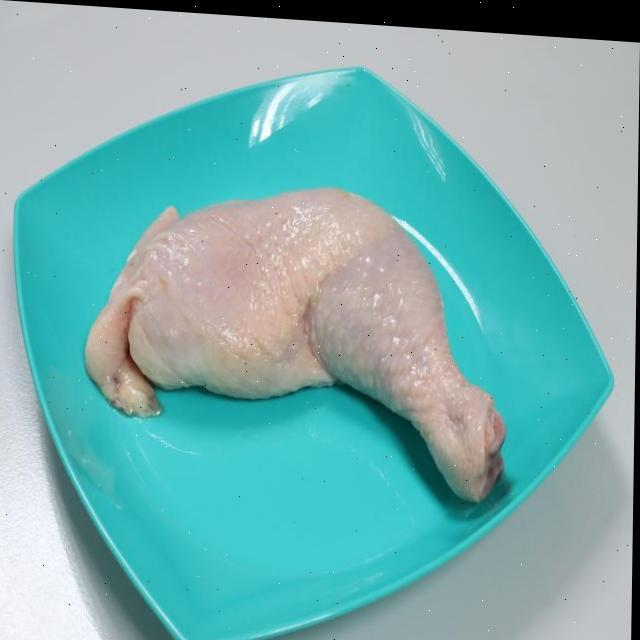quater: (116, 174, 506, 482)
